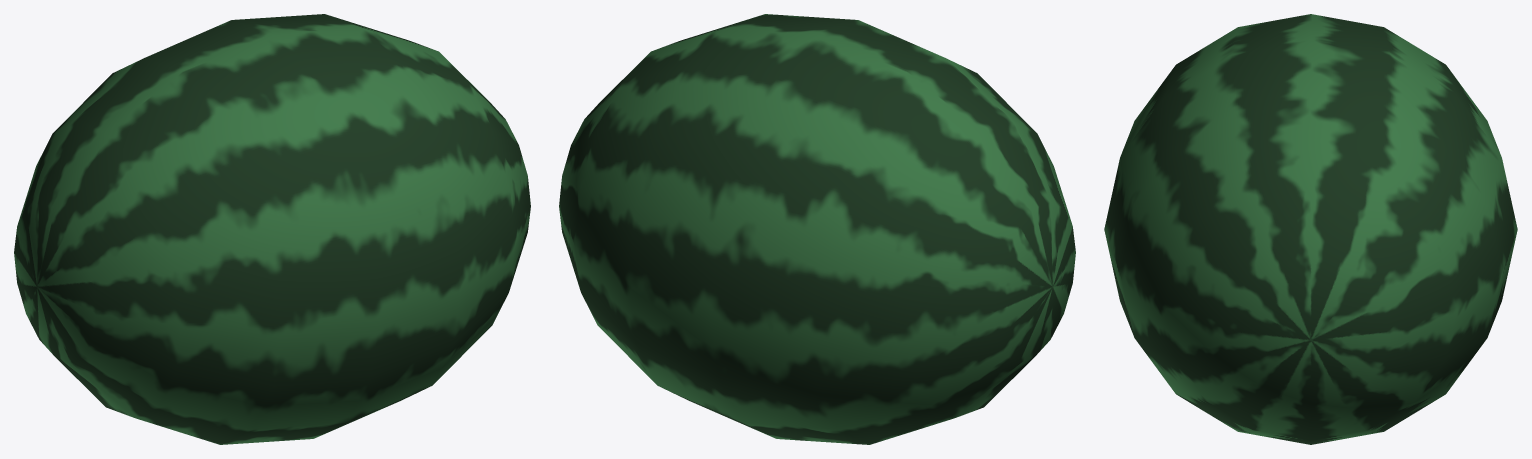
File: watermelon-new.glb
3 views of the same model, side by side, from view 1: azimuth 30°, elevation 25°; view 2: azimuth 150°, elevation 25°; view 3: azimuth 270°, elevation 25° (orthographic). The views are drawn at different scales.
Parts seen in each view (by area): view 1: watermelon; view 2: watermelon; view 3: watermelon.
Part boxes in pixels (<box>): watermelon: <box>14,14,530,444</box>; watermelon: <box>559,14,1075,444</box>; watermelon: <box>1104,14,1517,444</box>.
Size of the model in its own units: 0.9699 by 0.7647 by 0.7647.
Materials: 1 (1 with a texture image).
